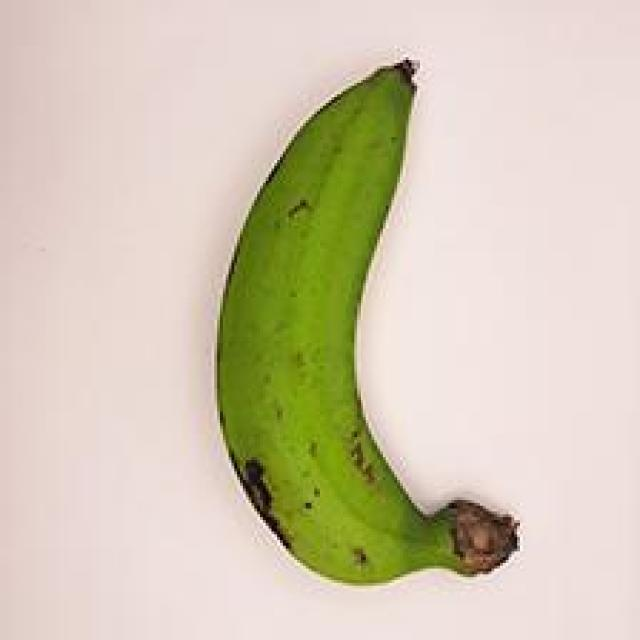Raw: (182, 57, 538, 617)
